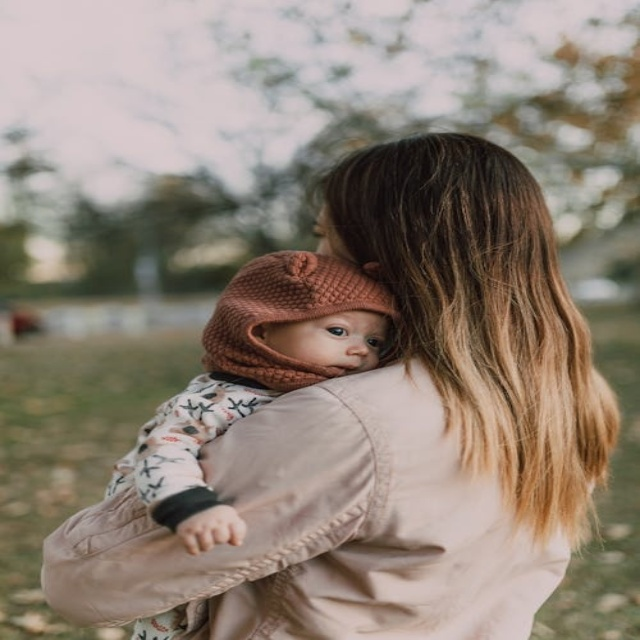Sin_gafas: (316, 316, 385, 352)
Sin_guantes: (170, 499, 247, 554)
Sin_mascara: (326, 364, 357, 374)
